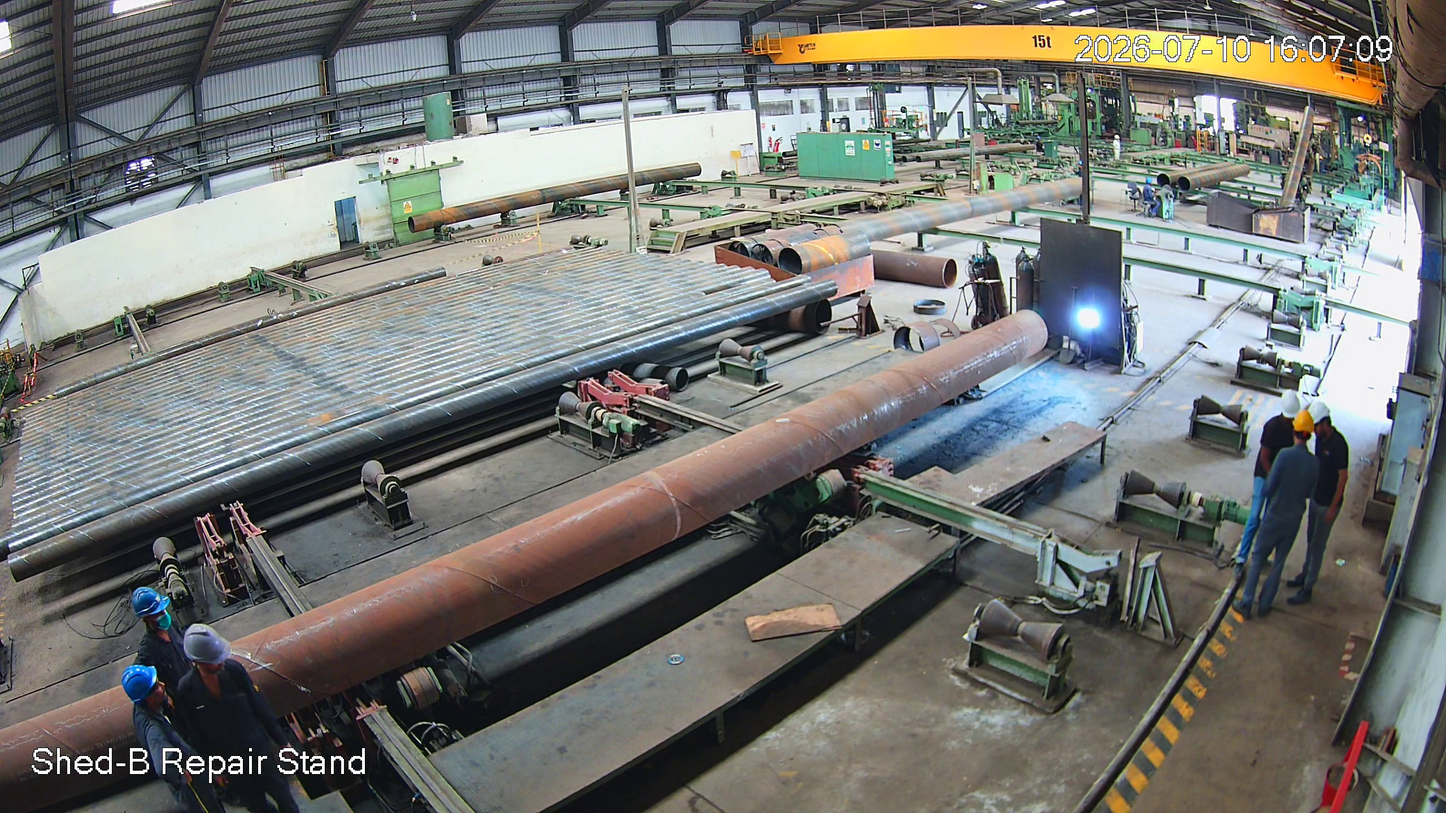Helmet: (116, 663, 187, 732), (116, 574, 182, 644), (183, 623, 258, 684), (1273, 388, 1312, 425), (1309, 392, 1343, 433), (1293, 404, 1318, 450)
Person: (175, 629, 315, 813), (112, 577, 233, 746), (116, 667, 218, 813), (1282, 405, 1337, 593), (1307, 398, 1354, 616), (1250, 393, 1304, 582)
